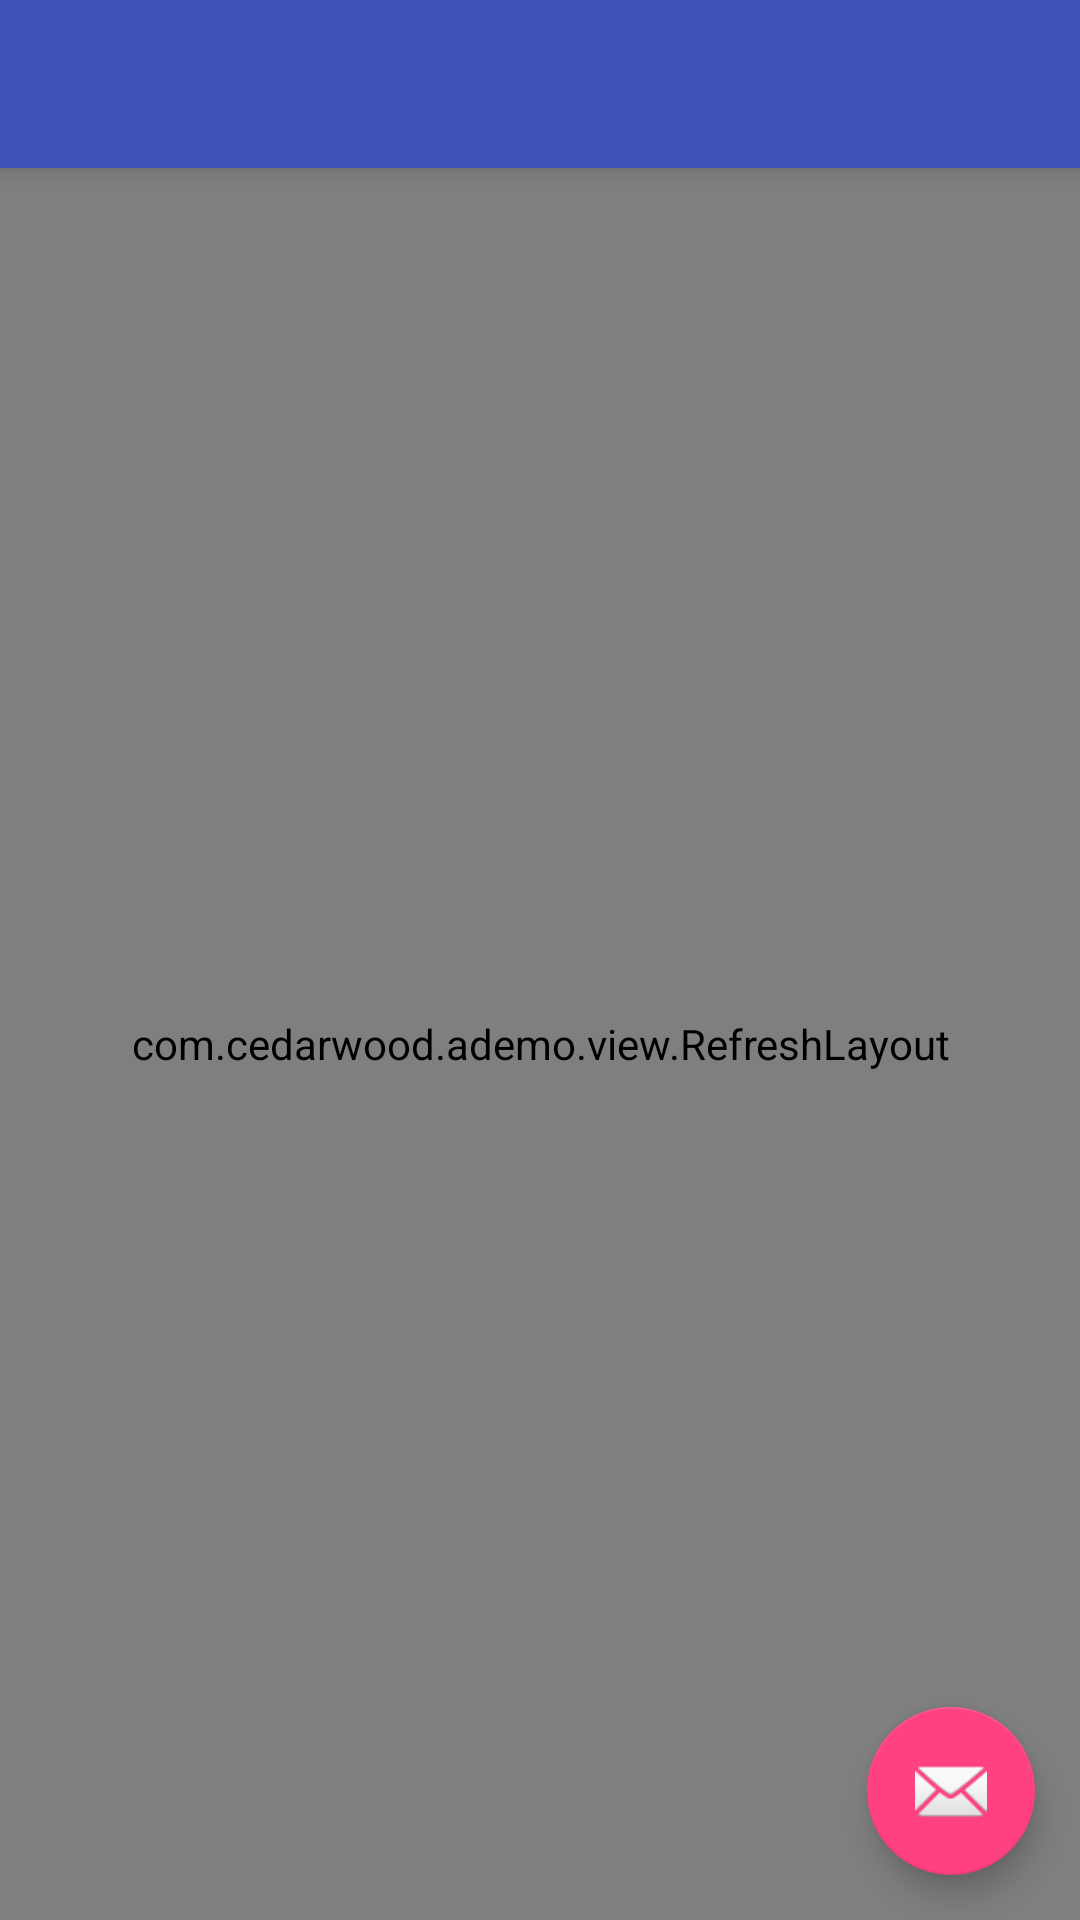

Icons on this 1080x1920 Android screen, each with its box as (x1, y1, x2, y2):
email: (867, 1707, 1035, 1875)
